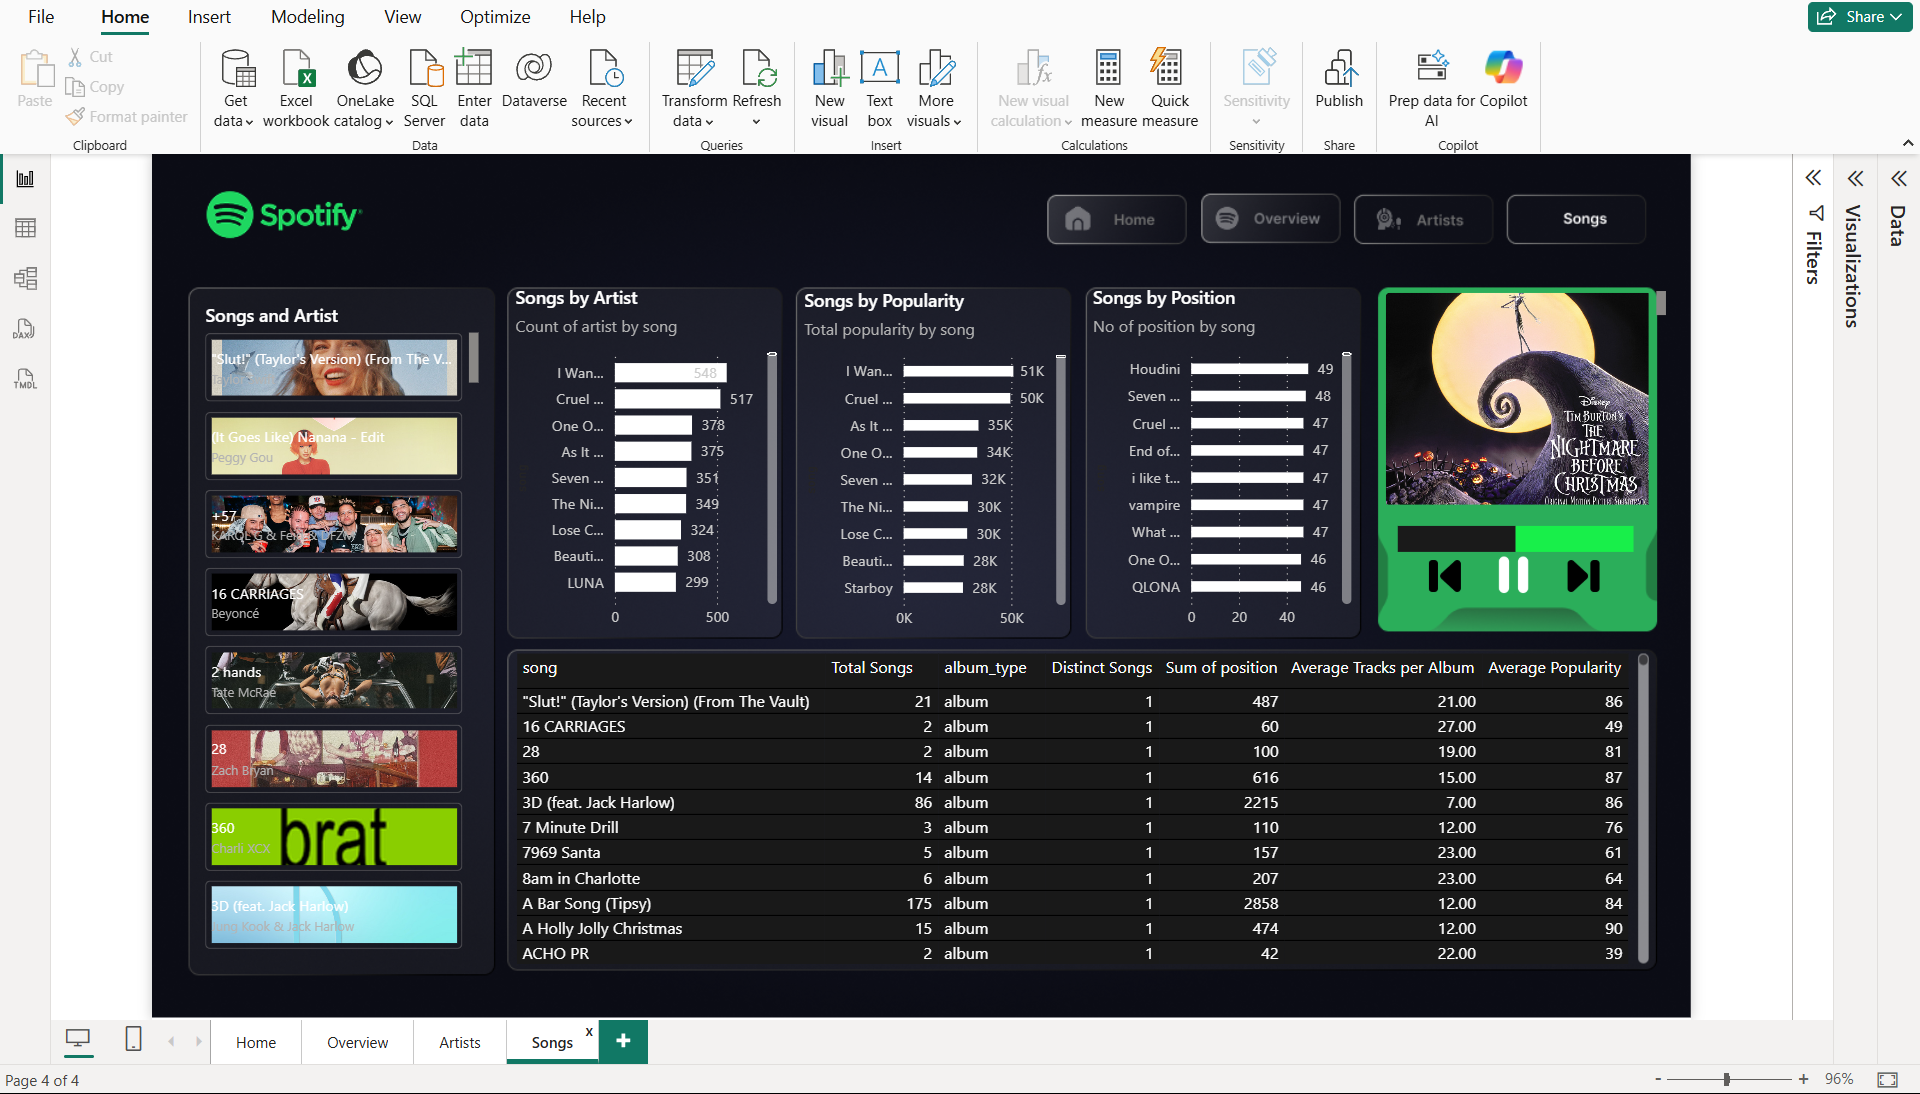

This screenshot's page, from the dashboard's own definition file:
{"tool":"powerbi","page":{"name":"Songs","canvas":[1280,720],"ordinal":3},"visuals":[{"type":"actionButton","box":[742.8,34.2,114,39.5],"z":0},{"type":"actionButton","box":[870.7,34.2,114,39.5],"z":1000},{"type":"actionButton","box":[996.3,34.2,114,39.5],"z":2000},{"type":"actionButton","box":[1124.2,33,114,41.9],"z":3000},{"type":"advancedSlicerVisual","title":"Songs and Artist","fields":{"Values":["Top-50-World.song"]},"box":[39.5,123.3,237.2,545.4],"z":10000},{"type":"tableEx","fields":{"Values":["Top-50-World.song","Top-50-World.Total Songs","Top-50-World.album_type","Top-50-World.Distinct Songs","Sum(Top-50-World.position)","Top-50-World.Average Tracks per Album","Top-50-World.Average Popularity"]},"box":[297.7,410.5,952.3,267.4],"z":11000},{"type":"clusteredBarChart","title":" Songs by Artist","fields":{"Category":["Top-50-World.song"],"Y":["CountNonNull(Top-50-World.artist)"]},"box":[297.4,109.5,227.7,293.6],"z":12000},{"type":"clusteredBarChart","title":" Songs by Popularity","fields":{"Y":["Sum(Top-50-World.popularity)"],"Category":["Top-50-World.song"]},"box":[537.5,110.7,227.7,292.4],"z":13000},{"type":"clusteredBarChart","title":" Songs by Position","fields":{"Category":["Top-50-World.song"],"Y":["Count(Top-50-World.position)"]},"box":[777.6,109.5,225.2,293.6],"z":14000},{"type":"hundredPercentStackedBarChart","fields":{"Y":["Avg(Top-50-World.popularity)","Top-50-World.Average Popularity"]},"box":[1031.5,284.6,206,65.7],"z":14001},{"type":"image","box":[1170,335.4,40,30],"z":14002},{"type":"image","box":[1112.5,335.1,40,30.3],"z":14003},{"type":"image","box":[1054.9,335.4,40,30],"z":14004},{"type":"advancedSlicerVisual","fields":{"Values":["Top-50-World.album_cover_url"]},"box":[1019.9,109.5,244.7,188],"z":14005},{"type":"shape","box":[1004.4,104.3,260.1,298.8],"z":14006}]}

Visuals, with their boxes on the page's 1280x720 design canvas (x1, y1, x2, y2). These are canvas units, not pixel positions in the 1920x1094 screenshot, which may show the page scaled, cropped or inside an application window:
actionButton: l=743, t=34, r=857, b=74
actionButton: l=871, t=34, r=985, b=74
actionButton: l=996, t=34, r=1110, b=74
actionButton: l=1124, t=33, r=1238, b=75
"Songs and Artist" advancedSlicerVisual: l=40, t=123, r=277, b=669
tableEx - Top-50-World.song x Top-50-World.Total Songs: l=298, t=410, r=1250, b=678
" Songs by Artist" clusteredBarChart: l=297, t=110, r=525, b=403
" Songs by Popularity" clusteredBarChart: l=538, t=111, r=765, b=403
" Songs by Position" clusteredBarChart: l=778, t=110, r=1003, b=403
hundredPercentStackedBarChart - Avg(Top-50-World.popularity) x Top-50-World.Average Popularity: l=1032, t=285, r=1238, b=350
image: l=1170, t=335, r=1210, b=365
image: l=1112, t=335, r=1152, b=365
image: l=1055, t=335, r=1095, b=365
advancedSlicerVisual - Top-50-World.album_cover_url: l=1020, t=110, r=1265, b=298
shape: l=1004, t=104, r=1264, b=403
